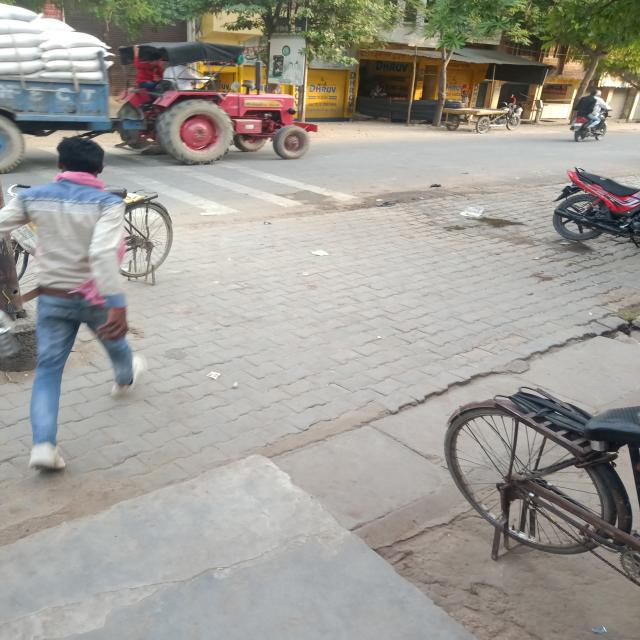Bike: (553, 165, 640, 244)
Tractor: (114, 41, 307, 167)
